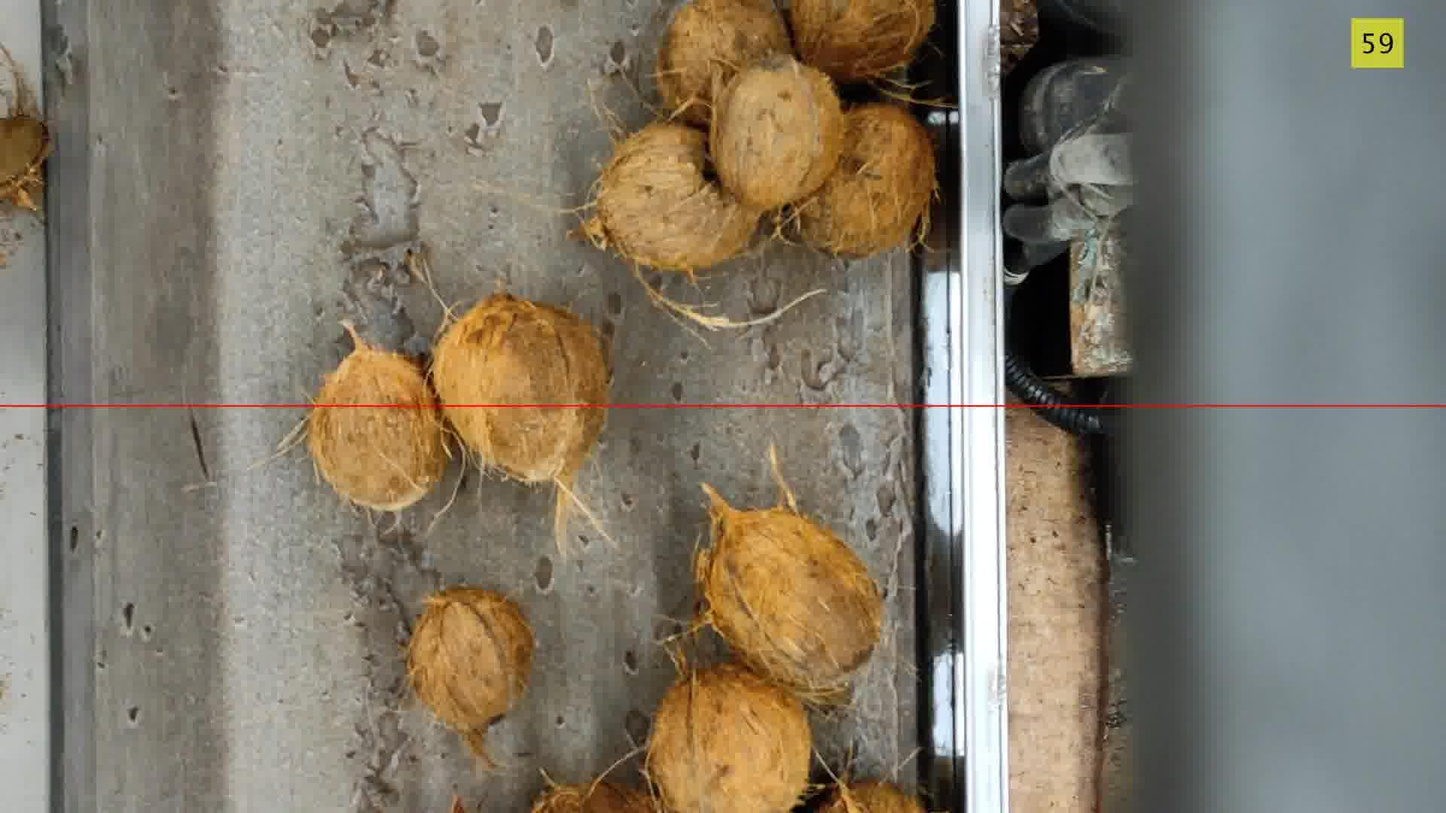Coconut: (695, 484, 882, 702), (431, 294, 609, 489), (582, 123, 761, 273), (307, 324, 447, 510), (646, 663, 810, 812), (407, 587, 534, 764), (798, 103, 935, 257), (709, 55, 844, 209), (656, 0, 792, 126), (789, 0, 935, 83), (0, 114, 50, 210), (531, 780, 652, 812), (819, 781, 925, 812)
